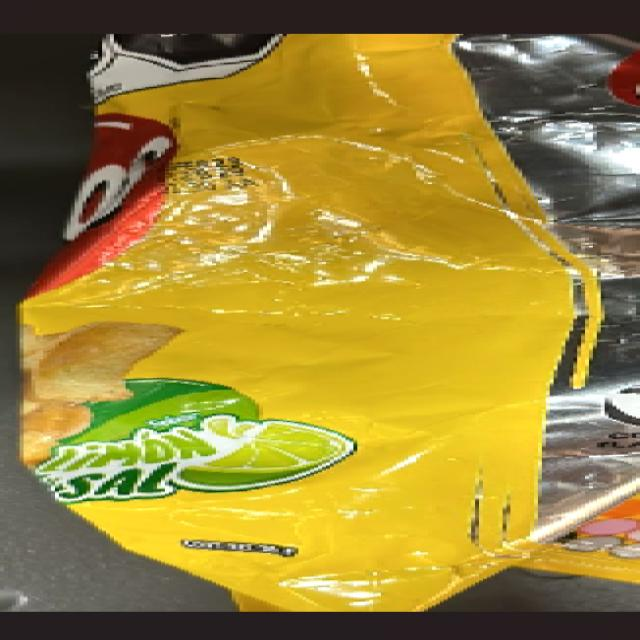fritosLimon: (27, 46, 545, 587)
